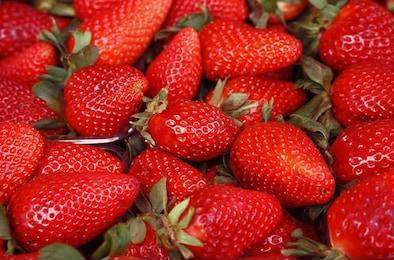Fresa: (6, 166, 143, 253), (226, 118, 342, 217), (171, 181, 284, 260), (58, 58, 152, 144), (194, 14, 306, 82), (136, 95, 243, 166), (141, 23, 206, 108)
